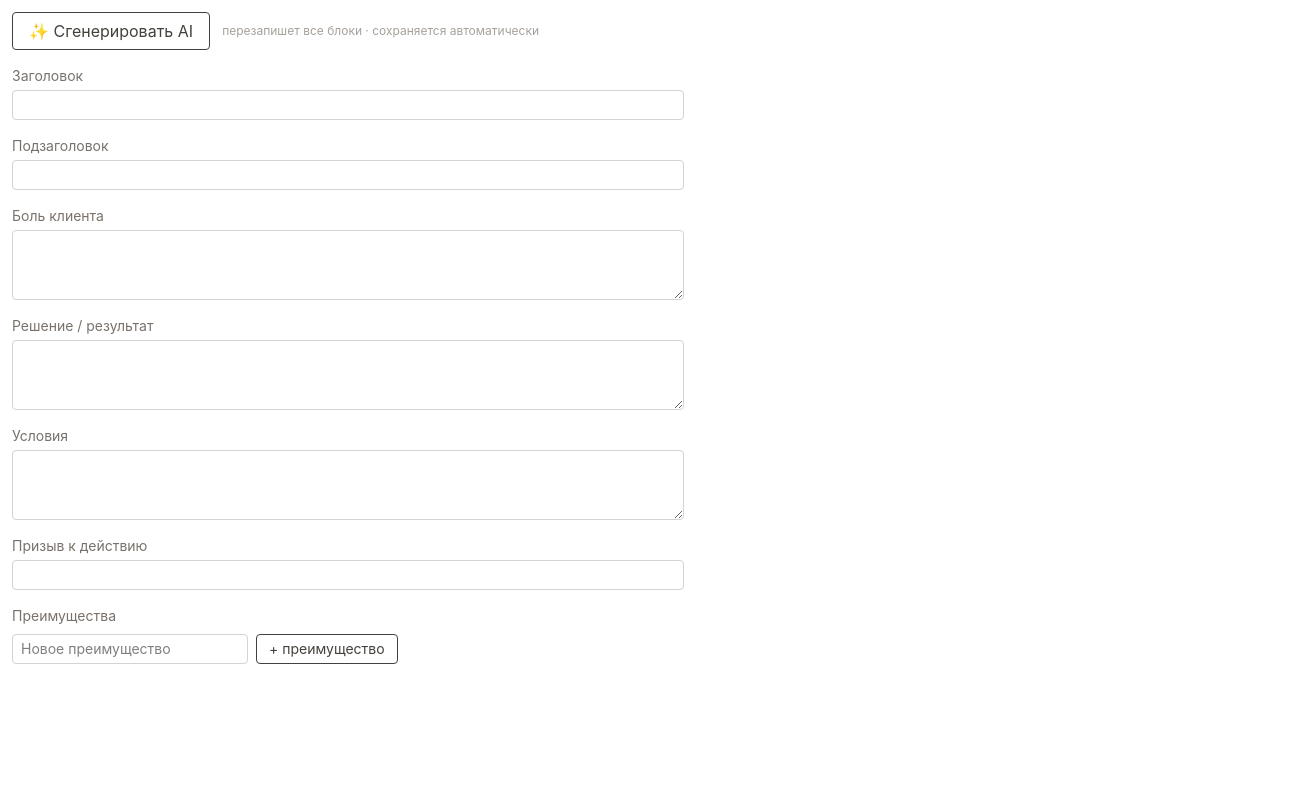
ProposalTab › shows 'AI not configured' banner on 503
Click the button "✨ Сгенерировать AI": click(111, 31) [12, 12, 210, 50]
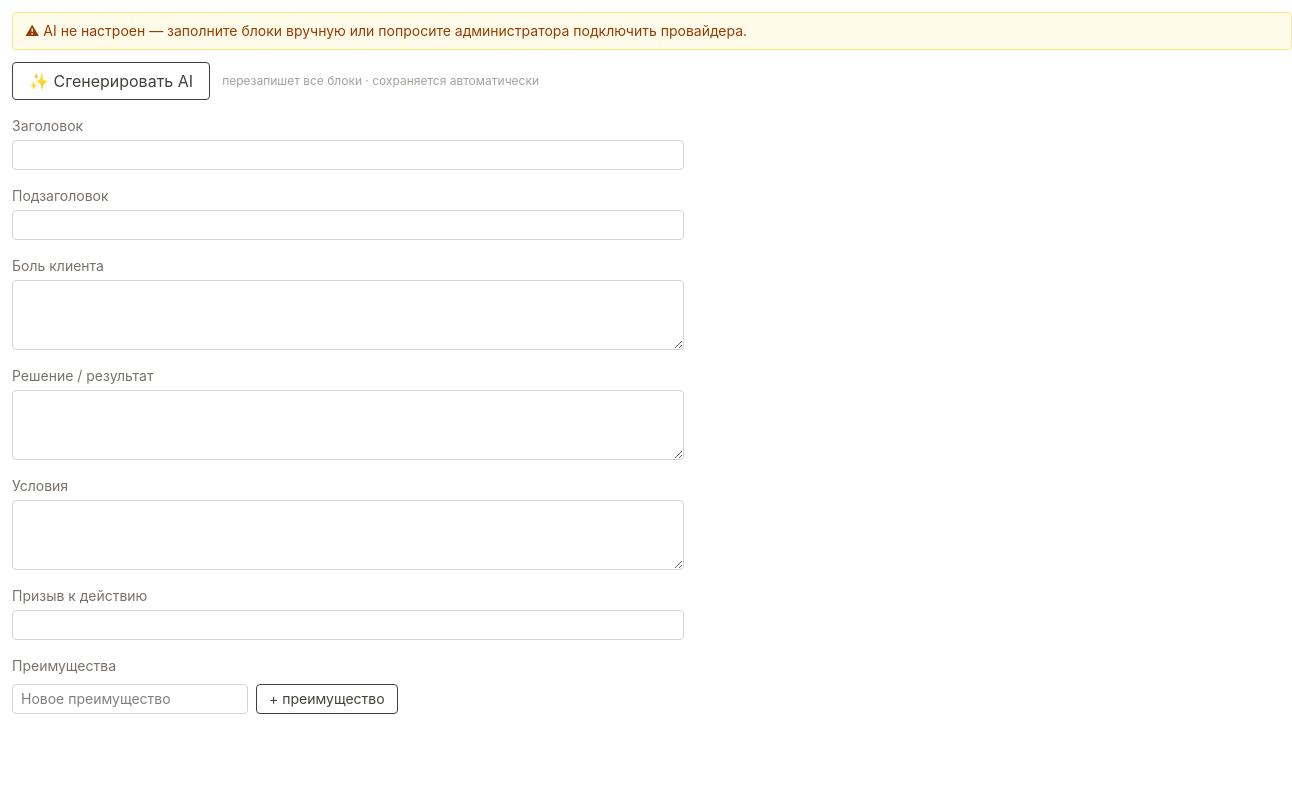
Result: the text "AI не настроен" is shown at [25, 22, 747, 39]
